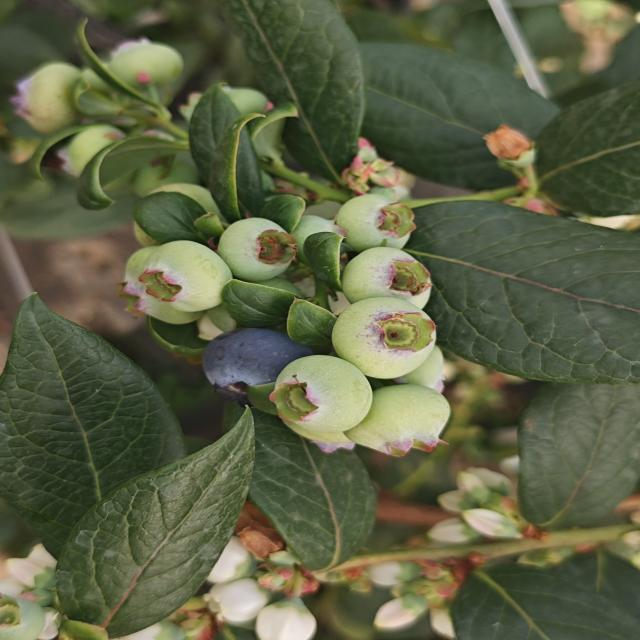ripe: (197, 328, 306, 392), (217, 11, 331, 13)
